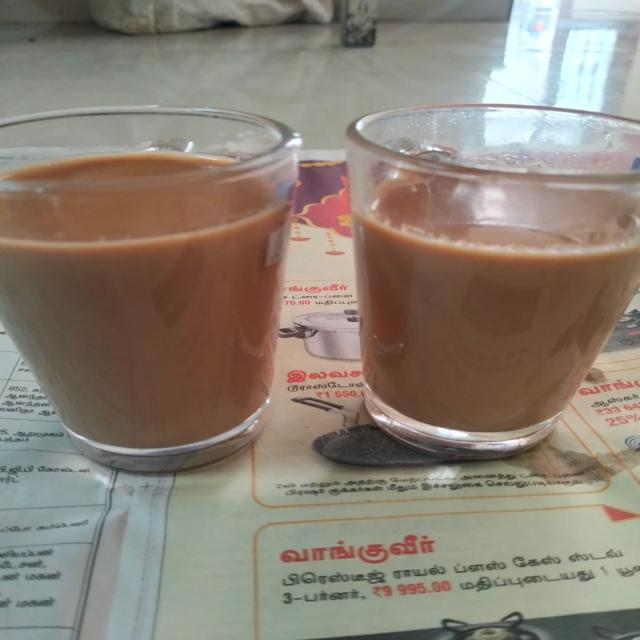glass-VX4N: (0, 103, 300, 476), (343, 105, 640, 458)
